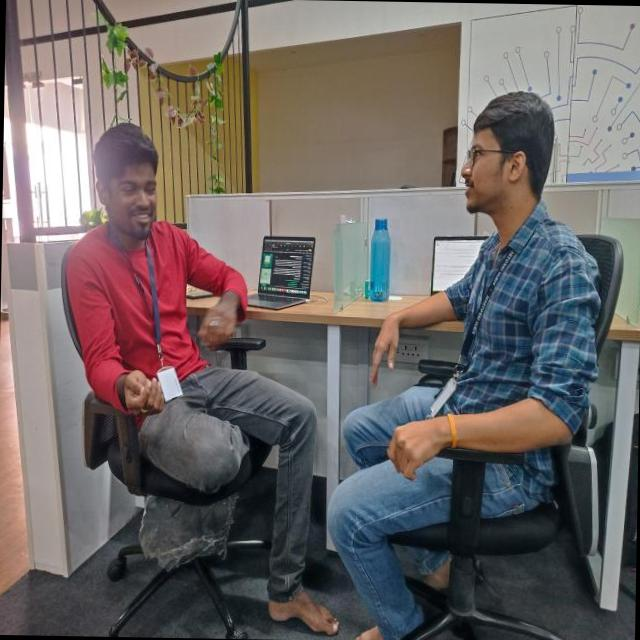id_card: (423, 228, 505, 425), (118, 227, 188, 402)
